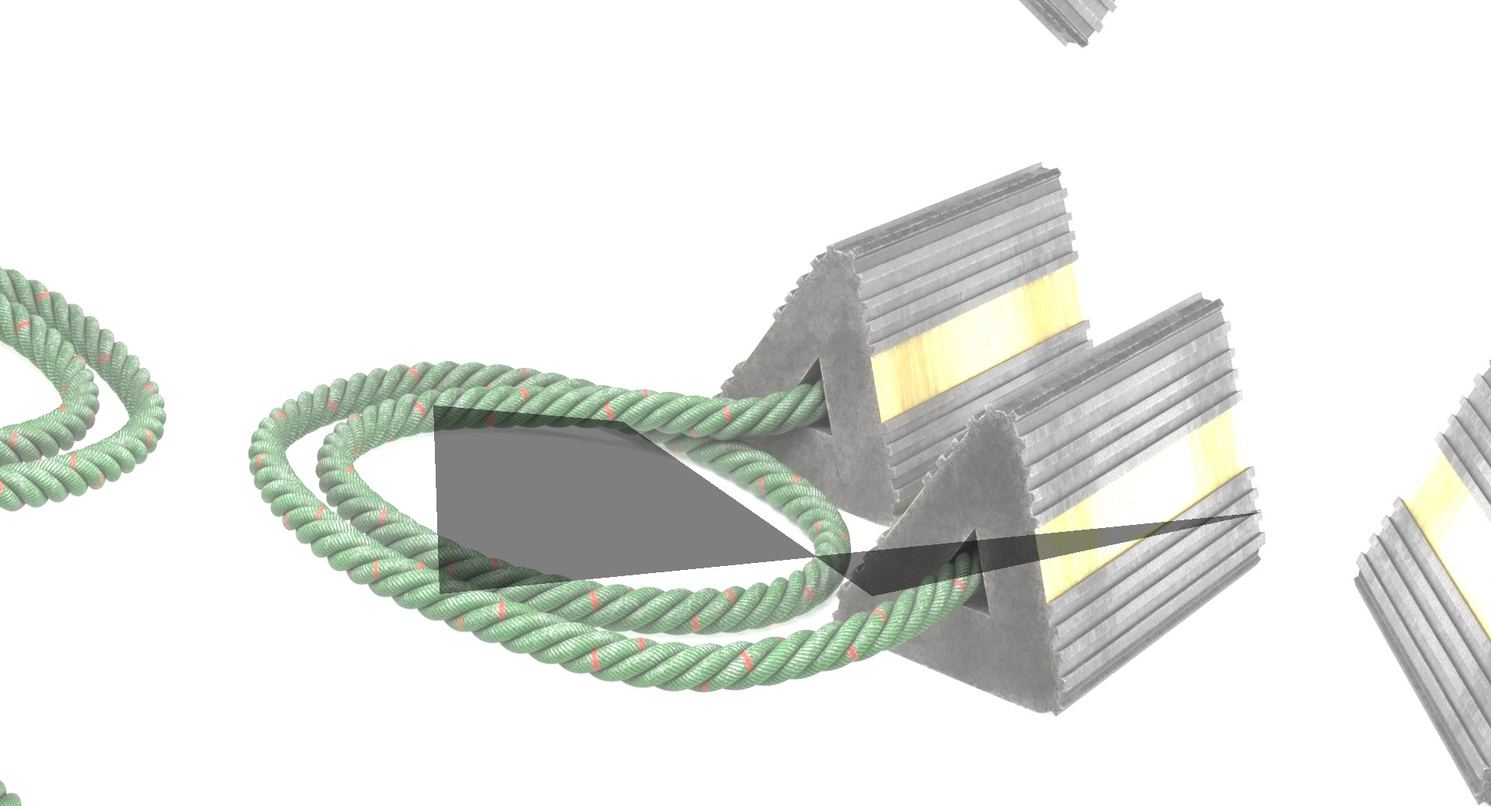chock: (821, 223, 1318, 754), (680, 103, 1130, 564), (1310, 325, 1491, 806)
